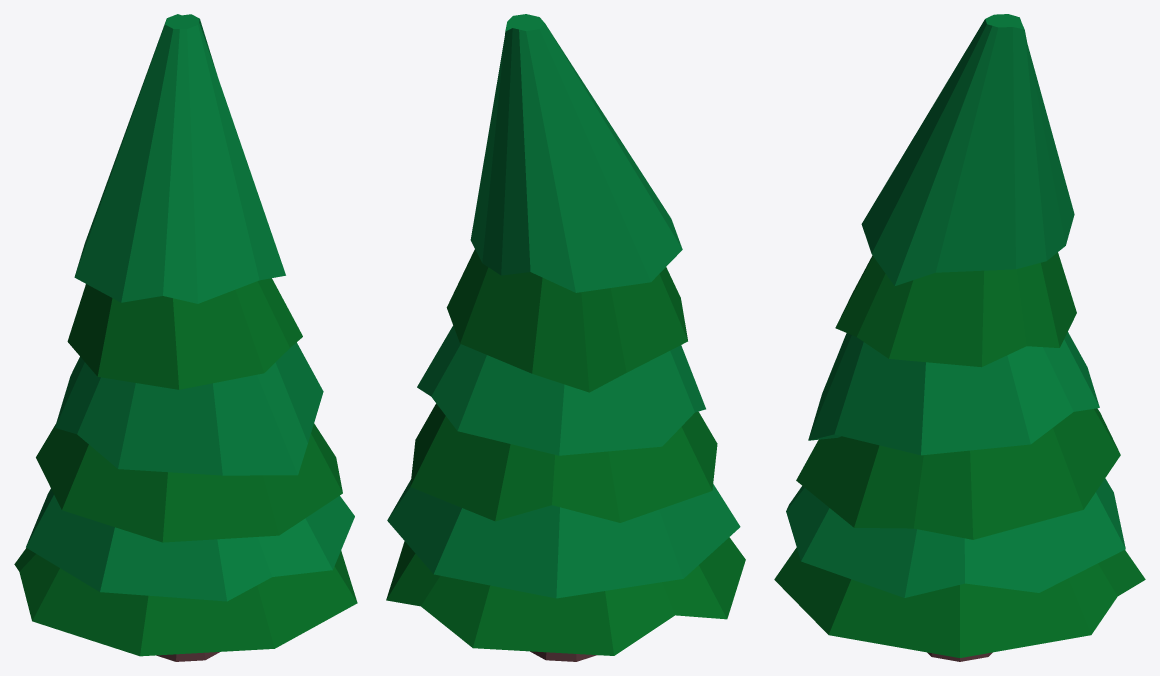
3 views of the same model, side by side, from view 1: azimuth 30°, elevation 25°; view 2: azimuth 150°, elevation 25°; view 3: azimuth 270°, elevation 25° (orthographic). The views are drawn at different scales.
Visible parts, largest first — view 1: Cylinder.007, Cylinder.005, Cylinder.004, Cylinder.002, Cylinder.003, Cylinder.006; view 2: Cylinder.007, Cylinder.003, Cylinder.004, Cylinder.005, Cylinder.006, Cylinder.002; view 3: Cylinder.007, Cylinder.004, Cylinder.005, Cylinder.002, Cylinder.003, Cylinder.006.
Part boxes in pixels (x1,y1,x2,y2): Cylinder.007: [74, 14, 285, 303]; Cylinder.005: [55, 342, 323, 475]; Cylinder.004: [36, 423, 342, 542]; Cylinder.002: [14, 548, 357, 656]; Cylinder.003: [26, 489, 354, 601]; Cylinder.006: [67, 278, 302, 389]; Cylinder.007: [470, 14, 682, 292]; Cylinder.003: [387, 480, 740, 598]; Cylinder.004: [410, 403, 717, 522]; Cylinder.005: [417, 325, 705, 455]; Cylinder.006: [446, 249, 687, 392]; Cylinder.002: [386, 537, 745, 655]; Cylinder.007: [861, 14, 1074, 285]; Cylinder.004: [796, 408, 1120, 539]; Cylinder.005: [808, 332, 1099, 455]; Cylinder.002: [774, 547, 1145, 657]; Cylinder.003: [786, 478, 1125, 597]; Cylinder.006: [835, 252, 1076, 367].
Size of the model in its own units: 1351 by 2543 by 1351.
